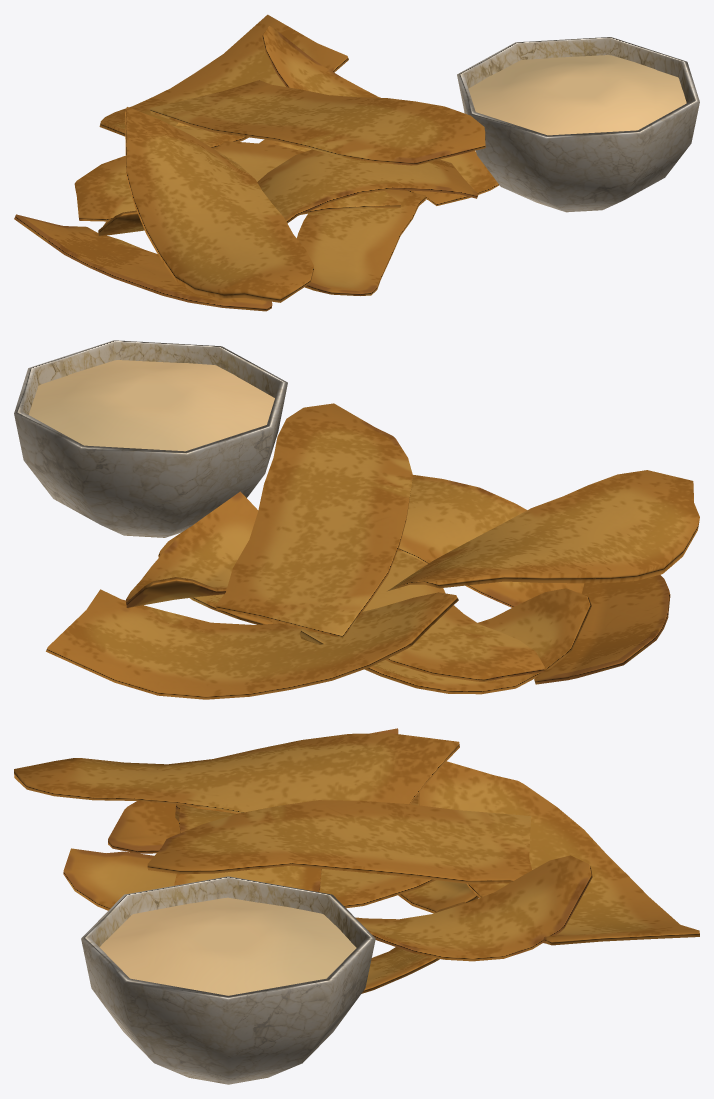
Rendered from arracacha3.glb.
3 renders of one model, top to bottom at view 1: azimuth 30°, elevation 25°; view 2: azimuth 150°, elevation 25°; view 3: azimuth 270°, elevation 25°, orthographic. The views are drawn at different scales.
Parts seen in each view (by area): view 1: polySurface22, pDisc3; view 2: polySurface22, pDisc3; view 3: polySurface22, pDisc3.
Boxes of the visible parts, left/top/right/bottom form: polySurface22: left=14, top=14, right=499, bottom=311; pDisc3: left=457, top=37, right=699, bottom=212; polySurface22: left=46, top=403, right=699, bottom=699; pDisc3: left=14, top=340, right=287, bottom=537; polySurface22: left=14, top=728, right=699, bottom=993; pDisc3: left=81, top=876, right=375, bottom=1084.
Bounding box in the file's own units: 1.91 × 0.3362 × 1.62.
3 materials, 3 textured.
